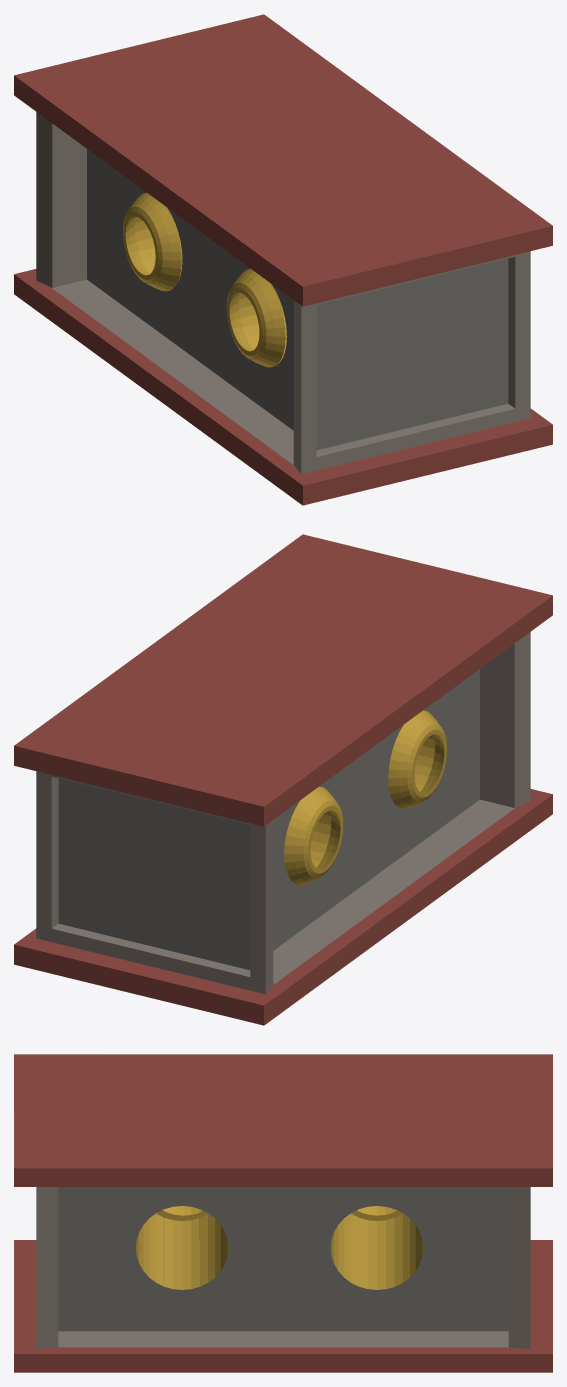
File: girdir 1m #1.fbx
3 views of the same model, one above another, from view 1: azimuth 30°, elevation 25°; view 2: azimuth 150°, elevation 25°; view 3: azimuth 270°, elevation 25° (orthographic). The views are drawn at different scales.
Parts seen in each view (by area): view 1: platform 1m.001, Circle.001; view 2: platform 1m.001, Circle.001; view 3: platform 1m.001, Circle.001.
Part boxes in pixels (box(x1,y1,x2,y2)): platform 1m.001: box(14, 14, 552, 505); Circle.001: box(123, 193, 285, 367); platform 1m.001: box(14, 534, 552, 1025); Circle.001: box(284, 710, 447, 884); platform 1m.001: box(14, 1054, 552, 1372); Circle.001: box(156, 1206, 402, 1220).
Bounding box in the file's own units: 0.5 × 0.418 × 1.
Materials: 2 (2 with a texture image).
